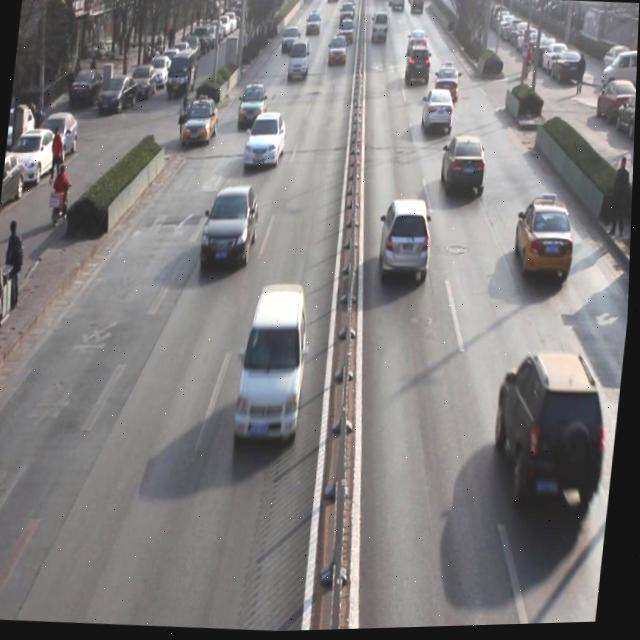car: (488, 342, 614, 534), (511, 194, 581, 287), (376, 193, 440, 291), (201, 183, 262, 268), (440, 133, 491, 201), (245, 110, 290, 172), (181, 95, 222, 149), (236, 79, 271, 131), (422, 89, 456, 138), (405, 42, 434, 88), (434, 63, 461, 104), (326, 34, 350, 69)
truck: (237, 285, 316, 453), (287, 37, 312, 85)
